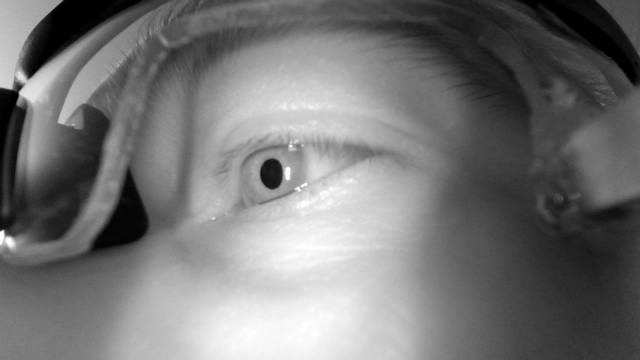pupil: (259, 158, 284, 190)
